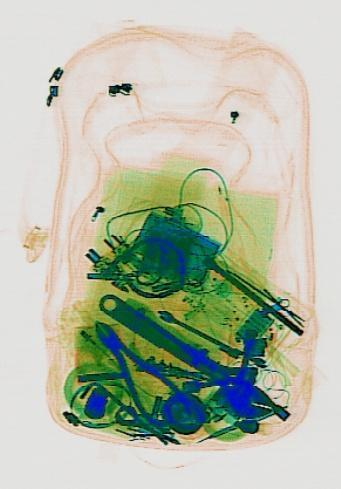Pliers: (80, 299, 203, 455)
Wrench: (92, 282, 278, 431)
